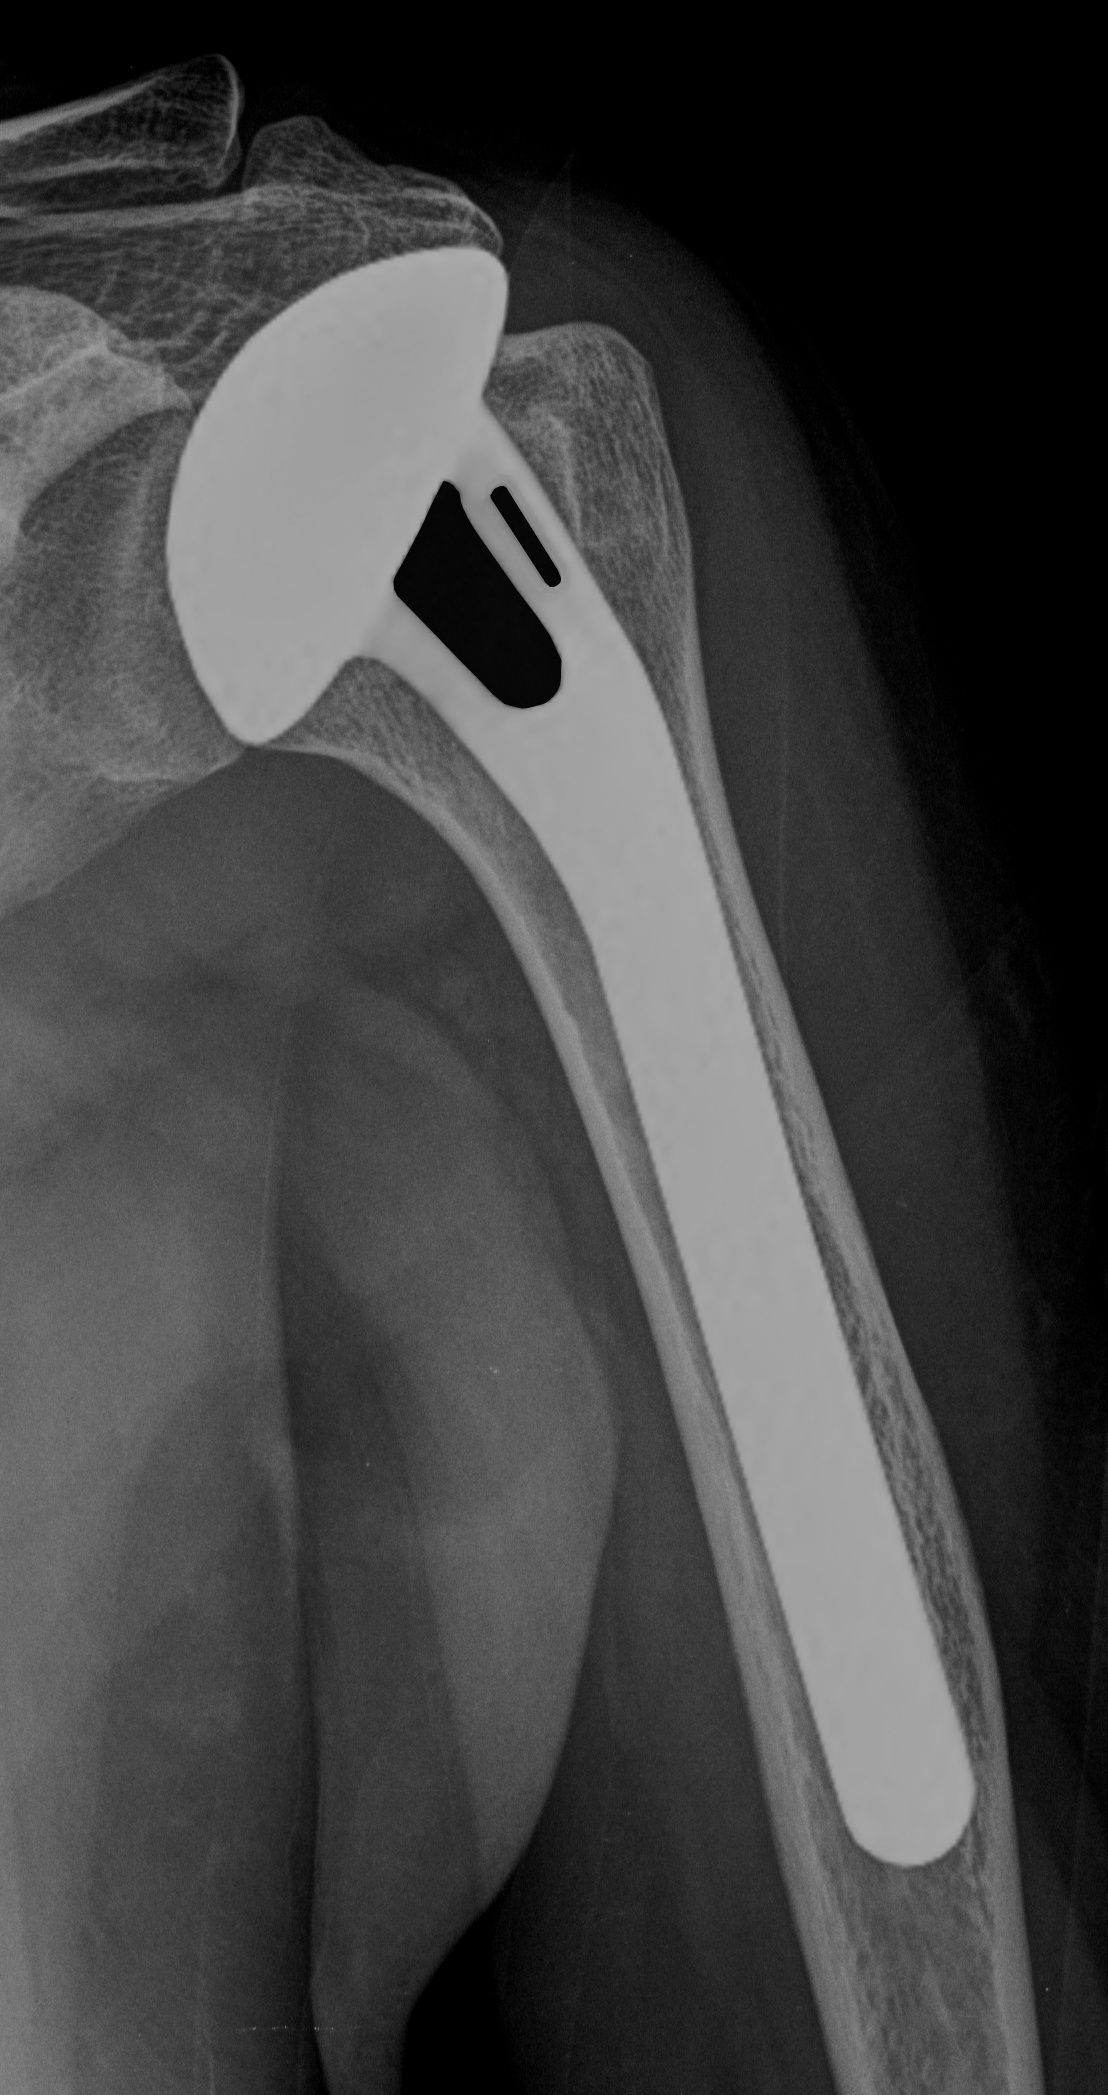Shoulder - AequalisFracture - Tornier: (136, 212, 629, 770)
